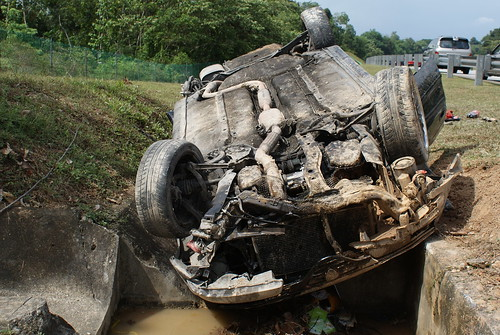car: (150, 18, 454, 297)
grass: (1, 83, 170, 214)
vegetation: (1, 1, 305, 60)
